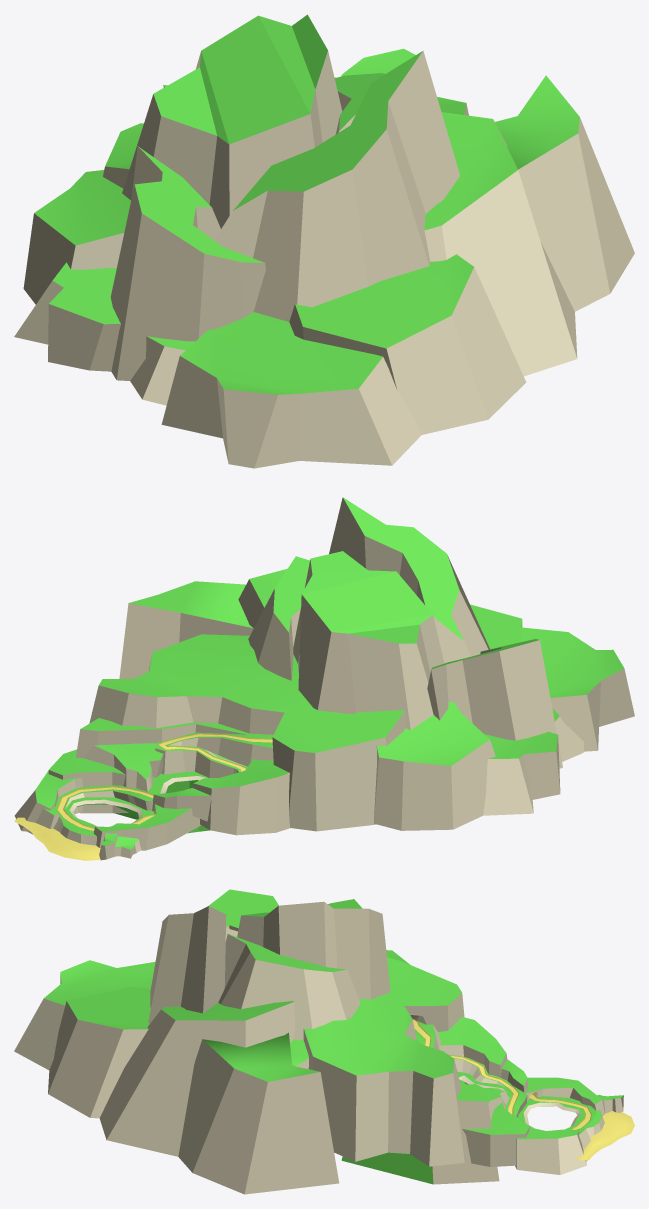
File: Island_Real.fbx
3 views of the same model, one above another, from view 1: azimuth 30°, elevation 25°; view 2: azimuth 150°, elevation 25°; view 3: azimuth 270°, elevation 25° (orthographic). The views are drawn at different scales.
Parts seen in each view (by area): view 1: Island.Real; view 2: Island.Real; view 3: Island.Real.
Part boxes in pixels (bbox=[...]): Island.Real: bbox=[14, 14, 634, 468]; Island.Real: bbox=[14, 497, 634, 860]; Island.Real: bbox=[14, 889, 634, 1194].
Size of the model in its own units: 7310 by 3708 by 9507.
